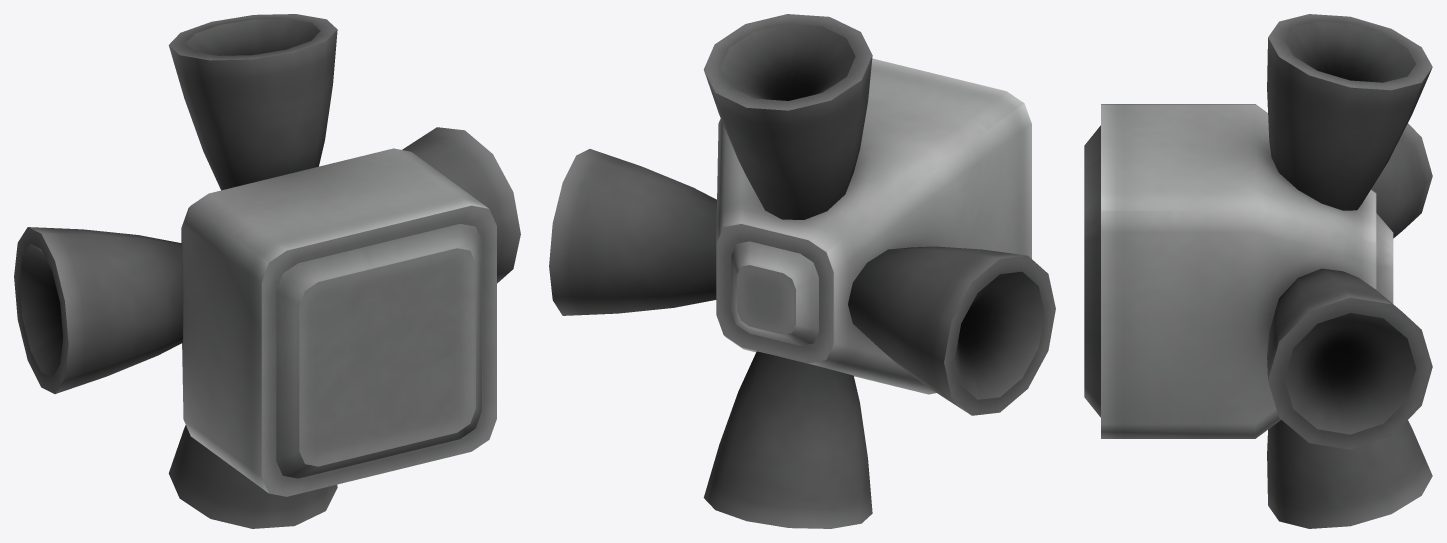
The model's file is Tantares_RCS_1.obj.
3 renders of one model, left to right at view 1: azimuth 30°, elevation 25°; view 2: azimuth 150°, elevation 25°; view 3: azimuth 270°, elevation 25°, orthographic.
Visible parts, largest first — view 1: Tantares_RCS_1; view 2: Tantares_RCS_1; view 3: Tantares_RCS_1.
Boxes of the visible parts, <box> form: Tantares_RCS_1: <box>14,14,520,528</box>; Tantares_RCS_1: <box>549,14,1055,528</box>; Tantares_RCS_1: <box>1084,14,1432,528</box>.
Size of the model in its own units: 0.1923 by 0.1923 by 0.1297.
